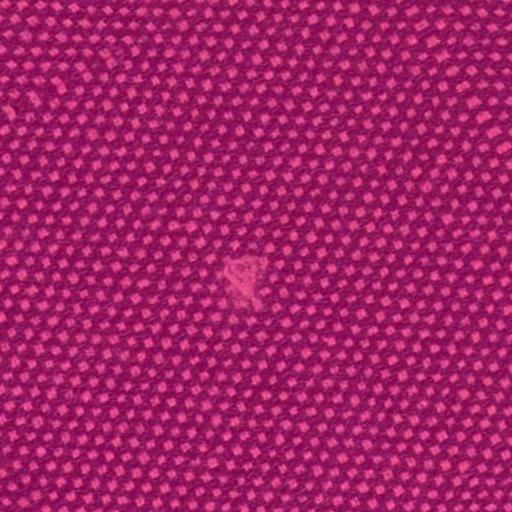knot: (216, 243, 278, 321)
